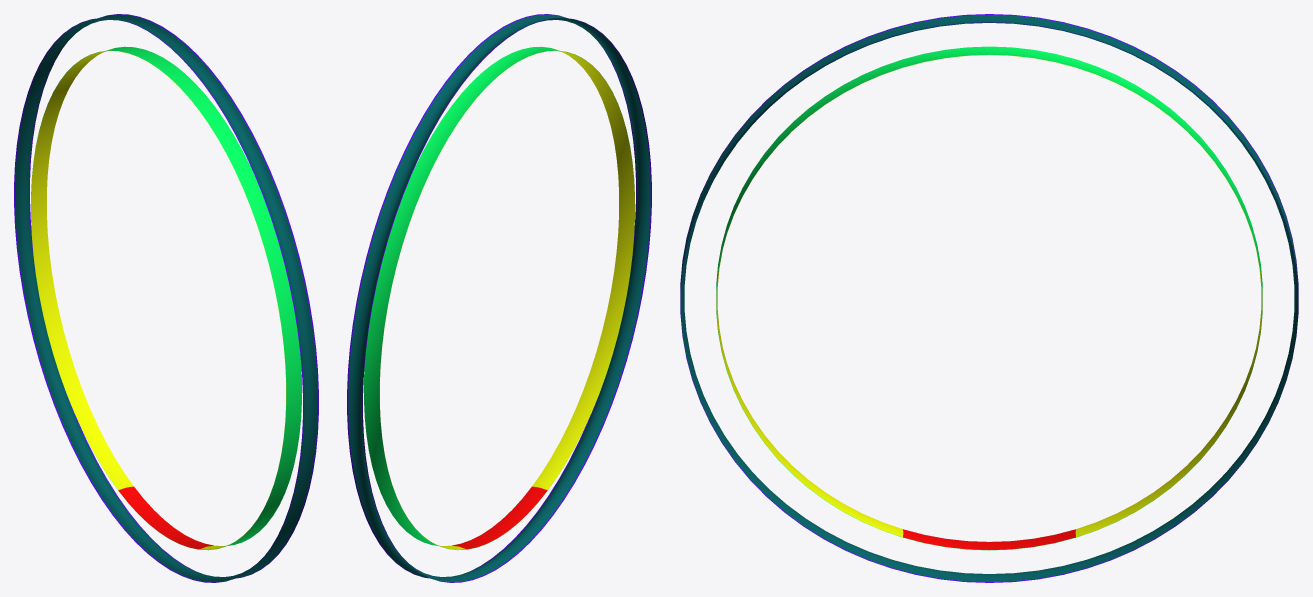
Rendered from Mid.glb.
3 views of the same model, side by side, from view 1: azimuth 30°, elevation 25°; view 2: azimuth 150°, elevation 25°; view 3: azimuth 270°, elevation 25° (orthographic). The views are drawn at different scales.
Visible parts, largest first — view 1: Middle Mesh; view 2: Middle Mesh; view 3: Middle Mesh.
Part boxes in pixels (x1=…): Middle Mesh: x1=14, y1=14, x2=318, y2=582; Middle Mesh: x1=347, y1=14, x2=651, y2=582; Middle Mesh: x1=680, y1=14, x2=1298, y2=582.
Bounding box in the file's own units: 0.000677 × 0.0212 × 0.0212.
